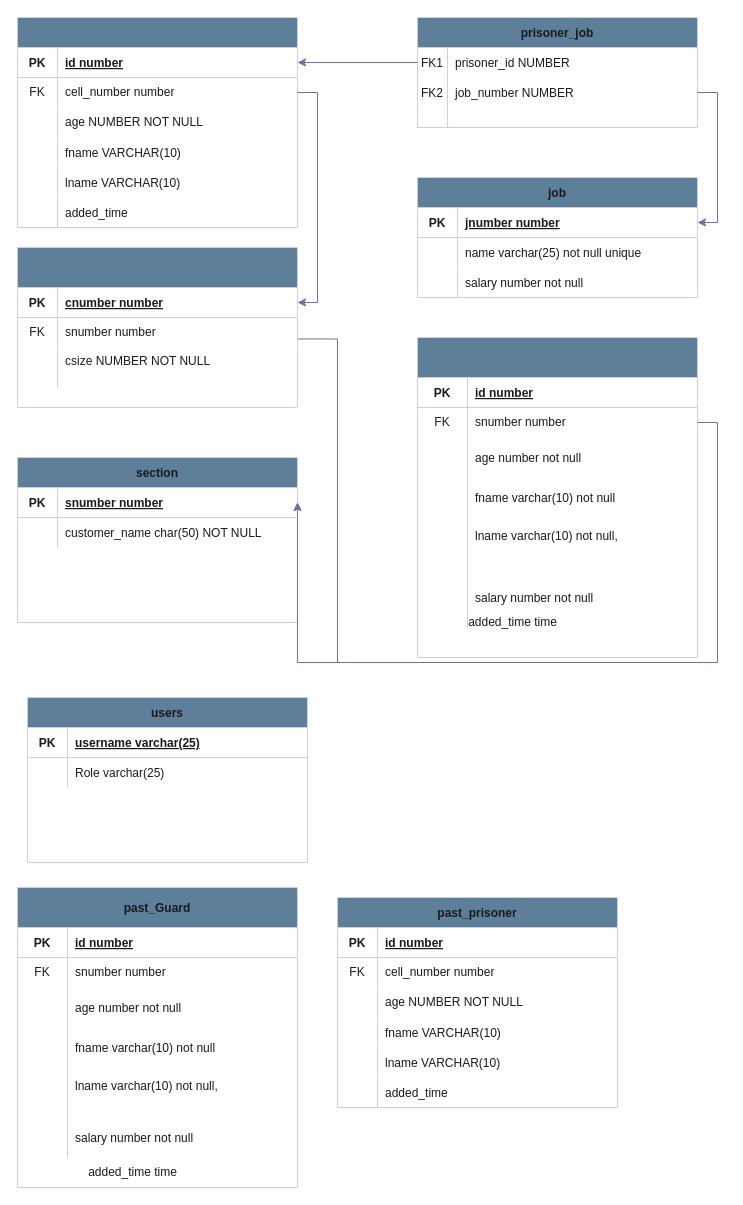
Some shapes in this 743 by 1205 pixel diagram are drawn without their labels. The shapes that lost their labels are listed below. From the top down, each one's box as (x1, y1, x2, y2) in pixels, then its label:
(16, 16, 298, 228): prisoner
(16, 246, 298, 408): cell
(416, 336, 698, 658): Guard
